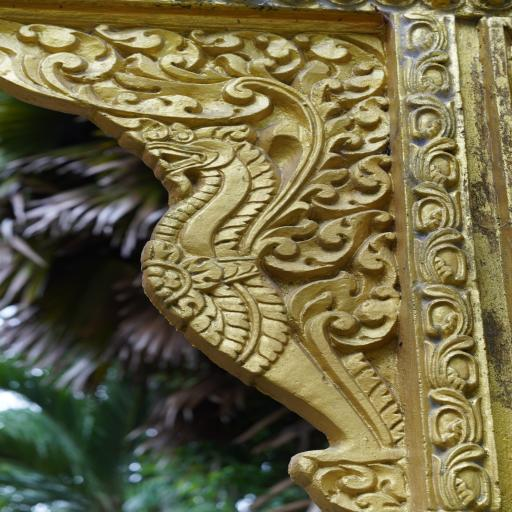la: (280, 234, 398, 348), (91, 13, 215, 90), (233, 201, 382, 262), (18, 18, 120, 94), (287, 149, 398, 208), (200, 22, 292, 91), (304, 91, 396, 153), (298, 28, 377, 97)
ran: (82, 101, 412, 512)
